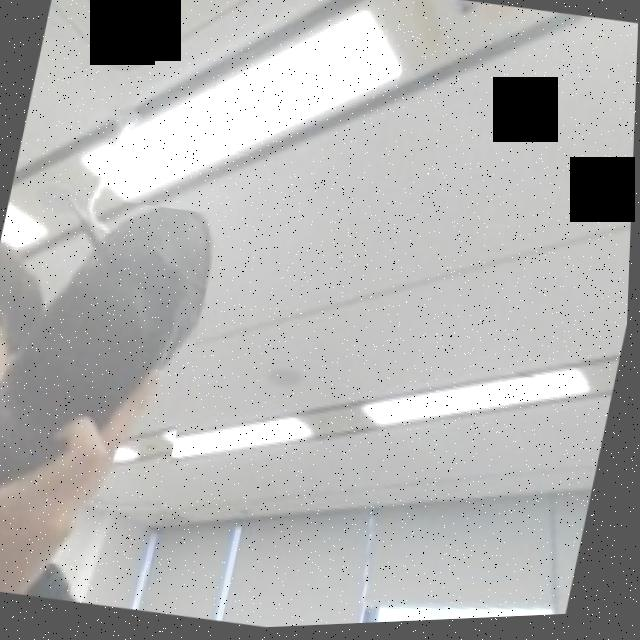shoe: (0, 181, 225, 526)
